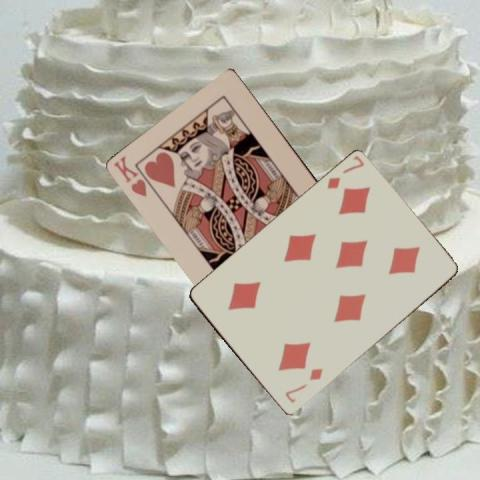7d: (281, 365, 325, 405), (324, 154, 365, 192)
Kh: (111, 152, 149, 198)
